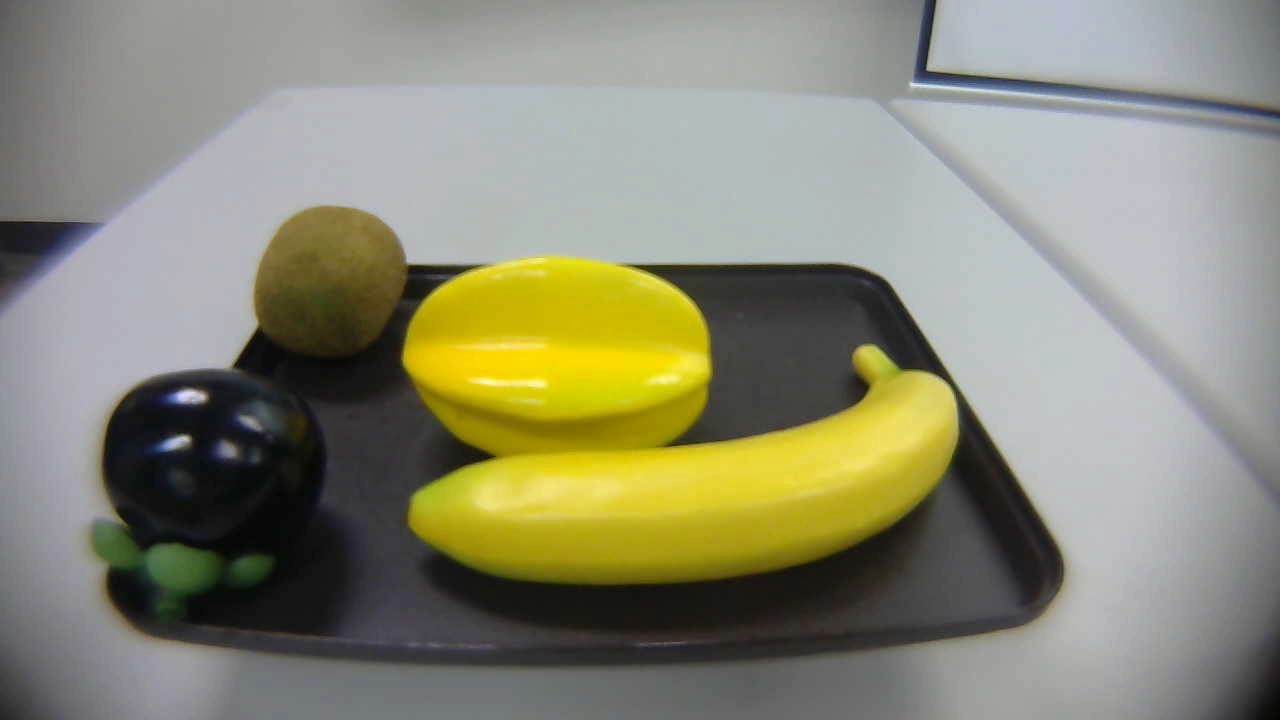banana: (390, 338, 985, 596)
kiwi fruit: (238, 188, 407, 363)
mangosteen: (78, 363, 337, 634)
star fruit: (387, 251, 713, 461)
